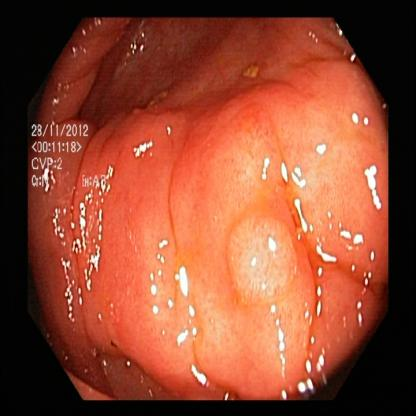Labels: (30, 116, 118, 200)
Polyps: (229, 207, 313, 312)
